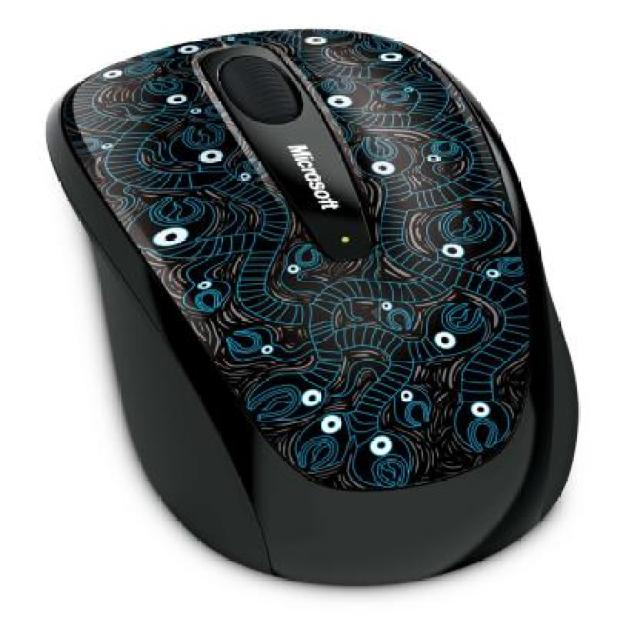mouse: (55, 29, 581, 583)
